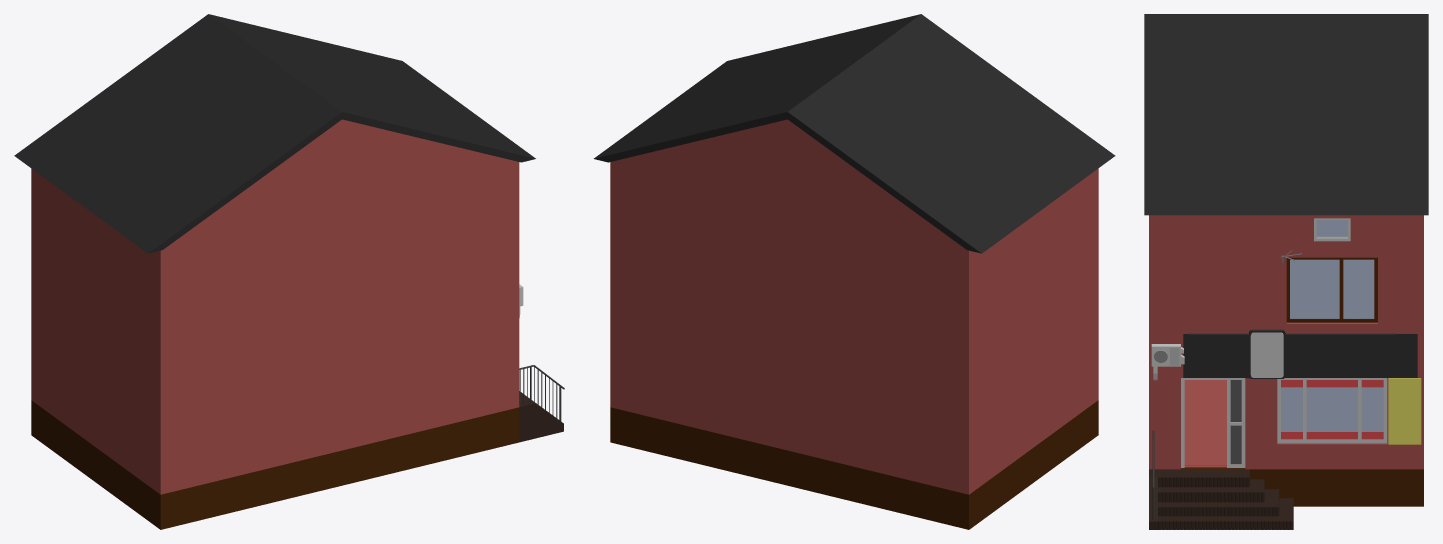
The model's file is meat-shop.glb.
3 renders of one model, left to right at view 1: azimuth 30°, elevation 25°; view 2: azimuth 150°, elevation 25°; view 3: azimuth 270°, elevation 25°, orthographic. The views are drawn at different scales.
Parts seen in each view (by area): view 1: MainBuilding, Plane.001, Cube; view 2: MainBuilding, Plane.001; view 3: Plane.001, MainBuilding, LowerWindow, MidSign, UpperWindow, LowerFloor, SideSign, DoorFrame, Logo, Brick.012, Brick.015, Brick.016 (+8 smaller).
Boxes of the visible parts, bbox=[...] form: MainBuilding: bbox=[31, 161, 519, 529]; Plane.001: bbox=[14, 14, 535, 253]; Cube: bbox=[519, 400, 563, 442]; MainBuilding: bbox=[610, 161, 1098, 529]; Plane.001: bbox=[593, 14, 1115, 253]; Plane.001: bbox=[1144, 14, 1428, 215]; MainBuilding: bbox=[1149, 215, 1423, 506]; LowerWindow: bbox=[1277, 378, 1387, 443]; MidSign: bbox=[1188, 333, 1397, 374]; UpperWindow: bbox=[1286, 257, 1377, 322]; LowerFloor: bbox=[1184, 380, 1226, 465]; SideSign: bbox=[1388, 378, 1421, 444]; DoorFrame: bbox=[1181, 378, 1245, 467]; Logo: bbox=[1249, 329, 1285, 378]; Brick.012: bbox=[1158, 498, 1293, 529]; Brick.015: bbox=[1158, 489, 1279, 516]; Brick.016: bbox=[1158, 479, 1264, 502].
Bounding box in the file's own units: 28.18 × 24.04 × 15.5.
